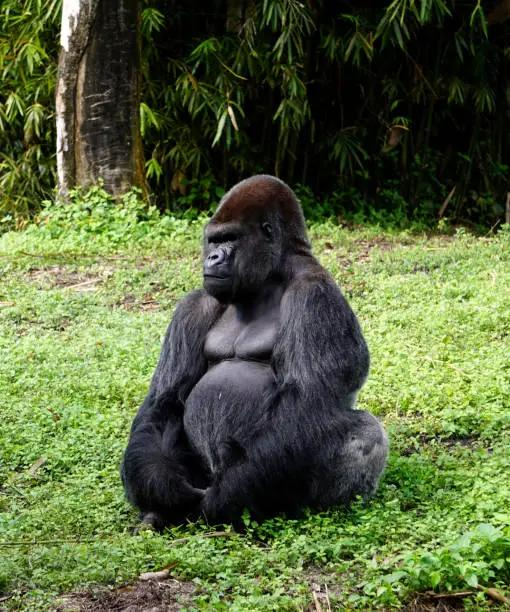gorille_Autres: (87, 127, 437, 579)
